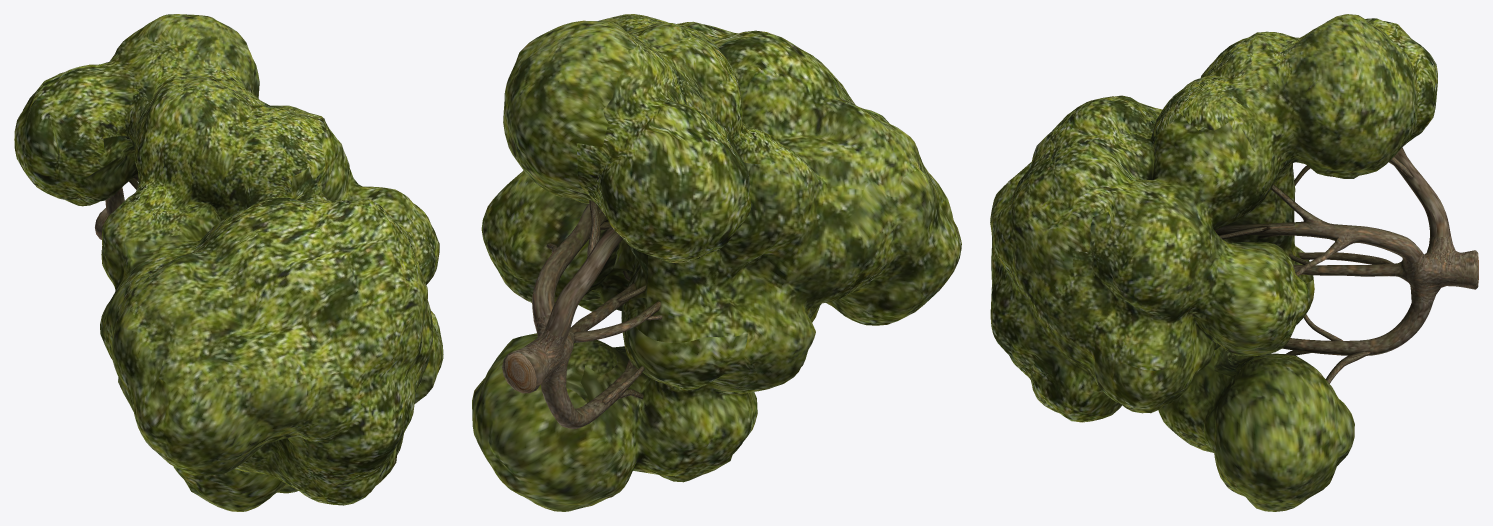
The model's file is 10445_Oak_Tree_v1_max2010_iteration-1.obj.
3 renders of one model, left to right at view 1: azimuth 30°, elevation 25°; view 2: azimuth 150°, elevation 25°; view 3: azimuth 270°, elevation 25°, orthographic. The views are drawn at different scales.
Parts seen in each view (by area): view 1: 10445_Oak_tree_v1_SG; view 2: 10445_Oak_tree_v1_SG; view 3: 10445_Oak_tree_v1_SG.
Part boxes in pixels (x1,y1,x2,y2): 10445_Oak_tree_v1_SG: (14, 14, 443, 511); 10445_Oak_tree_v1_SG: (472, 14, 961, 511); 10445_Oak_tree_v1_SG: (990, 14, 1478, 511).
Size of the model in its own units: 464 by 608 by 596.
Materials: 1 (1 with a texture image).
